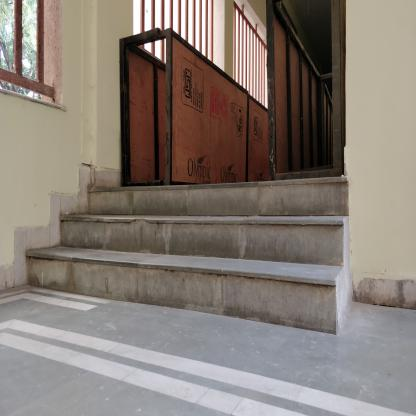stairs: (91, 175, 336, 336)
